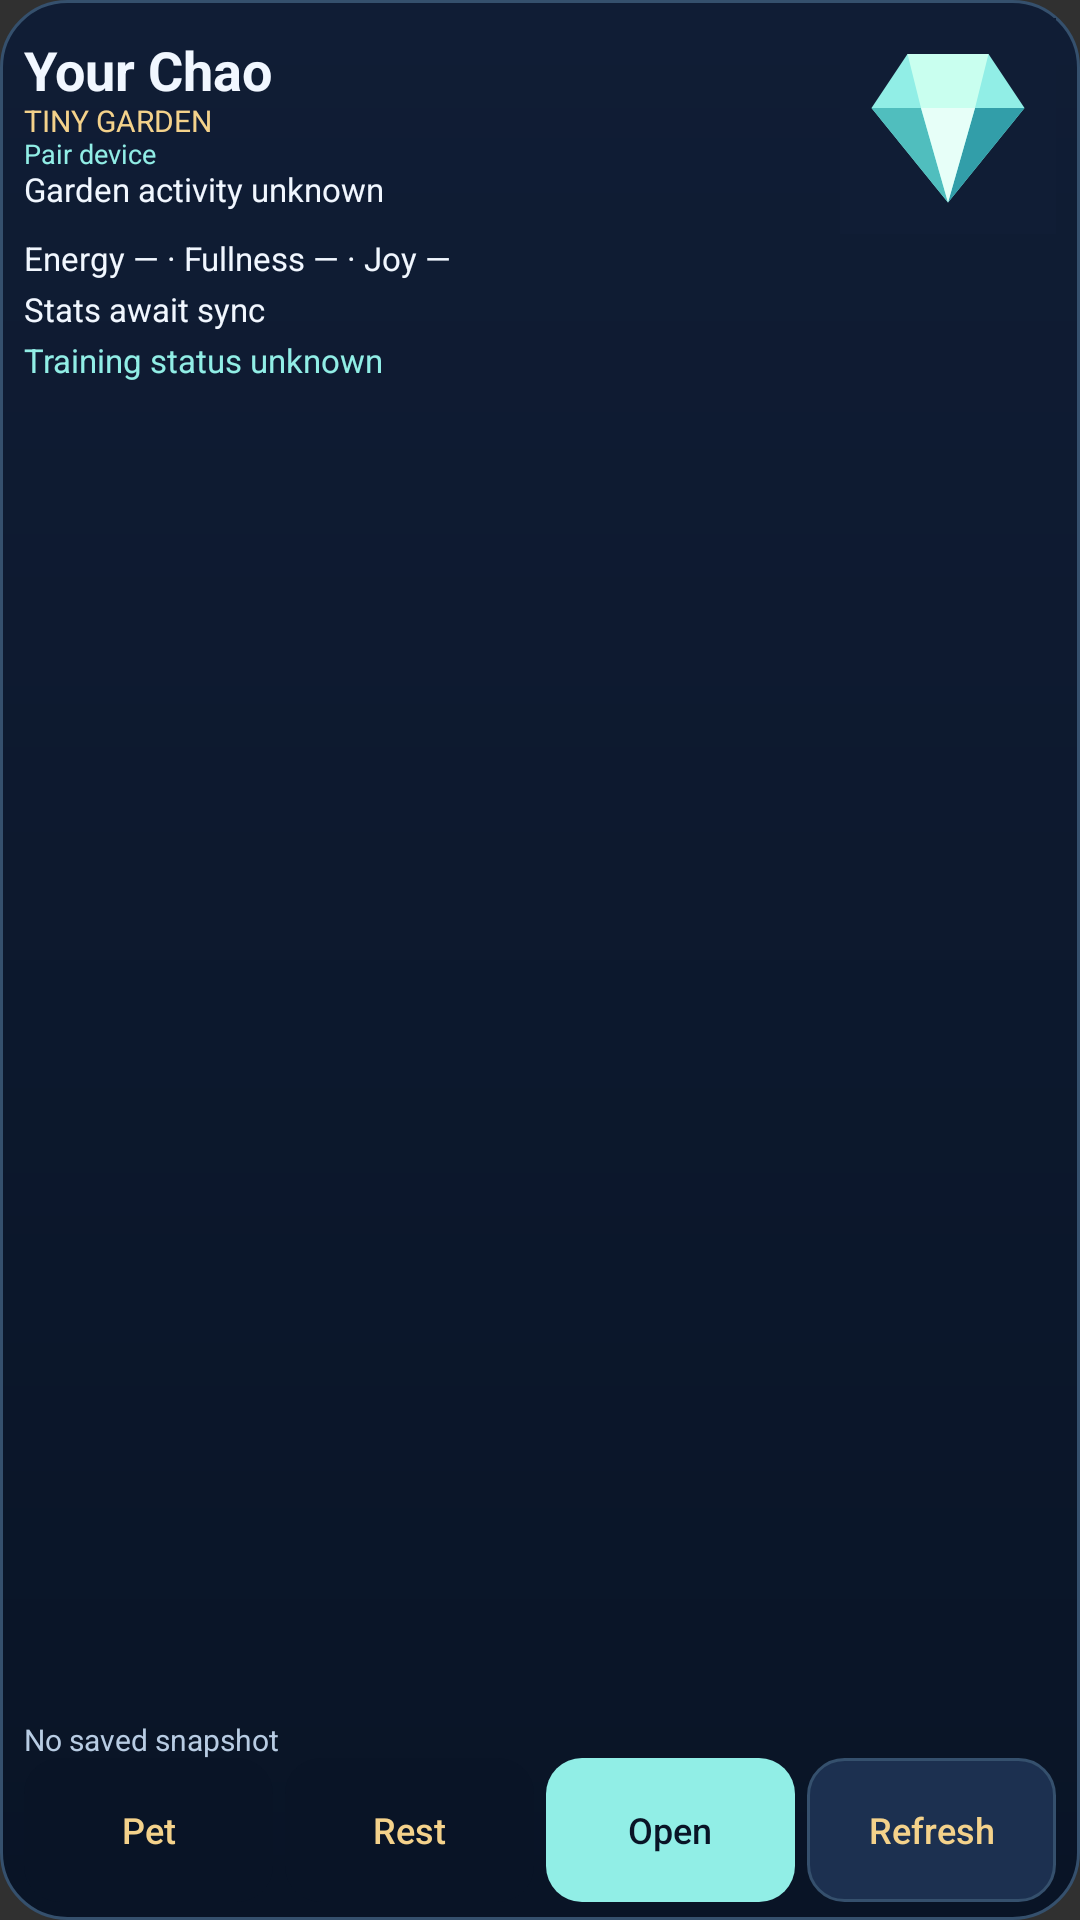

Screen size 1080px x 1920px. Icon name, then its center in pixels as [x,y]:
garden gem: [948,128]
